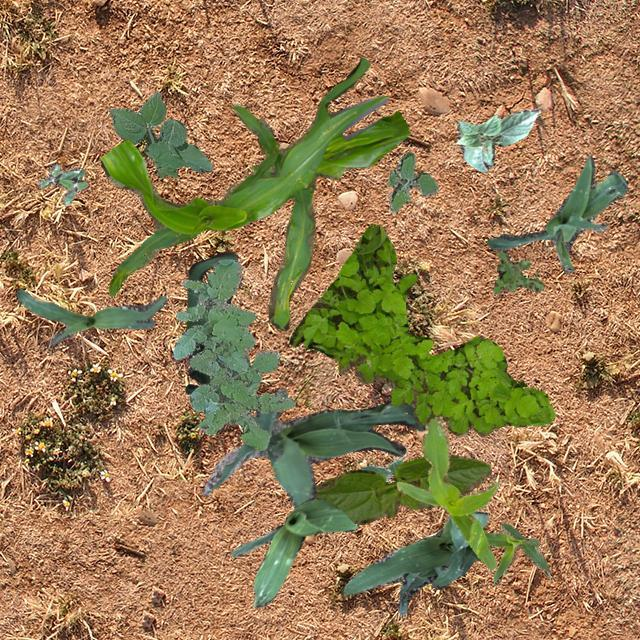crop: (100, 56, 408, 330), (200, 388, 424, 508), (486, 156, 626, 272), (396, 414, 498, 568), (342, 510, 487, 614), (228, 498, 356, 606), (184, 251, 258, 424), (314, 454, 491, 524), (15, 288, 166, 344), (454, 108, 540, 170), (484, 522, 550, 584), (361, 456, 402, 482)
weed: (290, 222, 554, 436), (172, 258, 294, 450), (108, 90, 212, 176), (386, 152, 436, 212), (492, 248, 544, 292), (36, 163, 86, 204)
